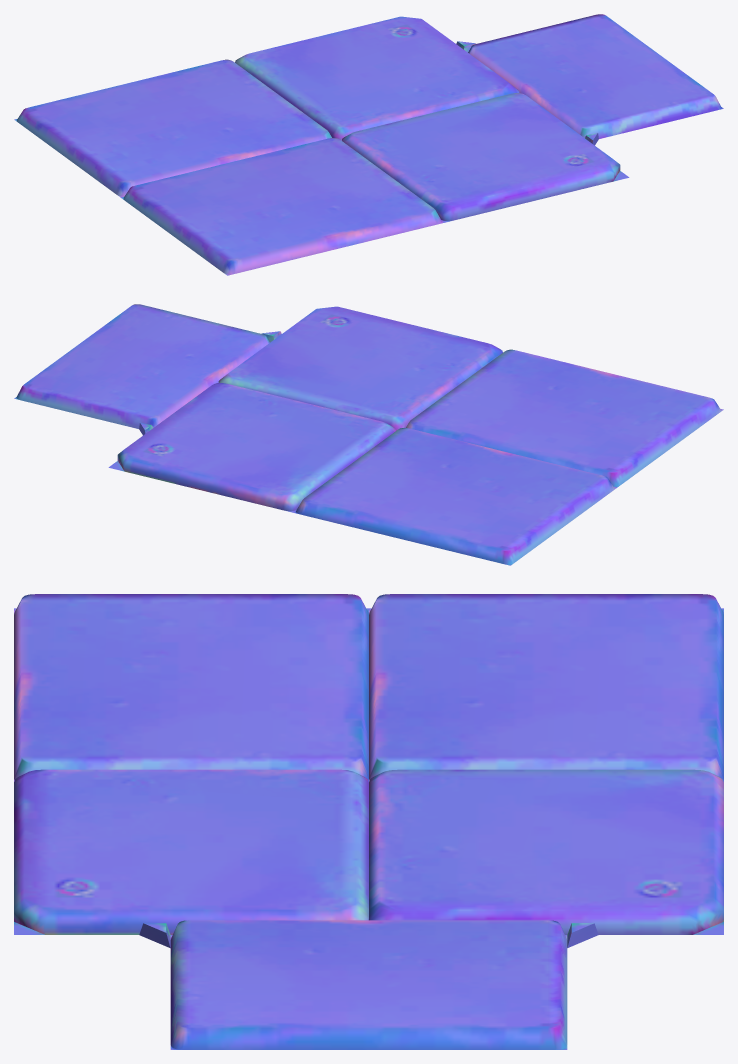
File: Building_B_Staircase_C_Floor_B.fbx
The picture shows the model from 3 angles, top to bottom: view 1: azimuth 30°, elevation 25°; view 2: azimuth 150°, elevation 25°; view 3: azimuth 270°, elevation 25°; orthographic projection. The views are drawn at different scales.
Parts seen in each view (by area): view 1: Geom_Building_B_Staircase_C_Floor_B_LOD00; view 2: Geom_Building_B_Staircase_C_Floor_B_LOD00; view 3: Geom_Building_B_Staircase_C_Floor_B_LOD00.
Boxes of the visible parts, left/top/right/bottom form: Geom_Building_B_Staircase_C_Floor_B_LOD00: left=14, top=14, right=723, bottom=275; Geom_Building_B_Staircase_C_Floor_B_LOD00: left=14, top=304, right=723, bottom=565; Geom_Building_B_Staircase_C_Floor_B_LOD00: left=14, top=594, right=723, bottom=1049.
Size of what is drawn, in the model's own units: 500 by 10.38 by 340.
